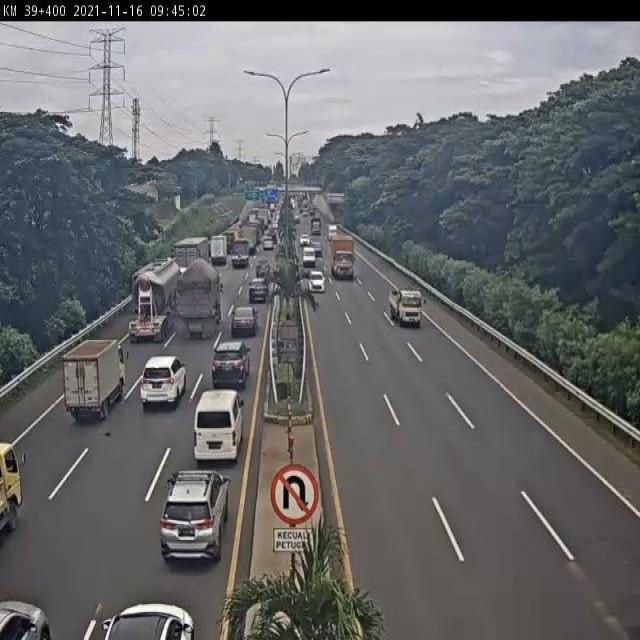car: (160, 472, 228, 565), (138, 355, 188, 408), (212, 342, 253, 394), (230, 303, 260, 337), (246, 280, 270, 307), (253, 259, 271, 284), (309, 272, 324, 295)
small bus: (192, 392, 243, 463)
small truck: (62, 337, 127, 420), (387, 288, 427, 332)
truck-l-: (172, 264, 221, 345), (171, 237, 211, 291)
truck-m-: (330, 235, 356, 282)
truck-xl-: (129, 256, 180, 343)
